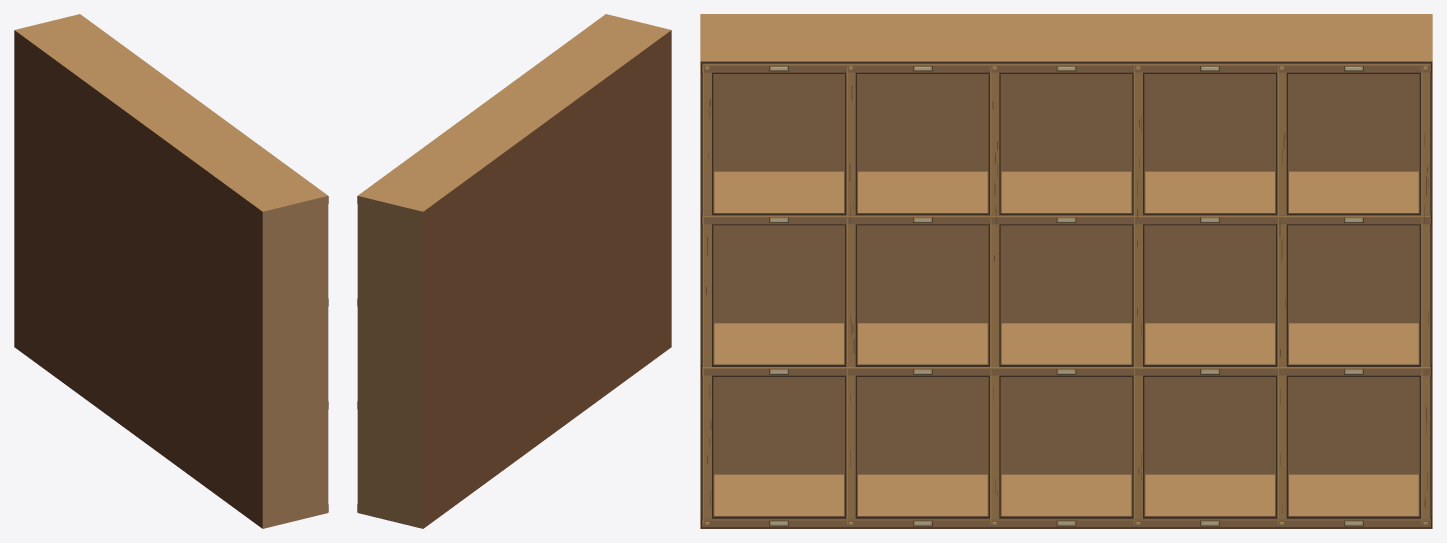
File: RAF.fbx
3 renders of one model, left to right at view 1: azimuth 30°, elevation 25°; view 2: azimuth 150°, elevation 25°; view 3: azimuth 270°, elevation 25°, orthographic. The views are drawn at different scales.
Visible parts, largest first — view 1: Küp.015; view 2: Küp.015; view 3: Küp.015.
Boxes of the visible parts, x1,y1,x2,y2 form: Küp.015: [14, 14, 328, 528]; Küp.015: [357, 14, 671, 528]; Küp.015: [700, 14, 1432, 528].
Size of the model in its own units: 320 by 1450 by 2058.
